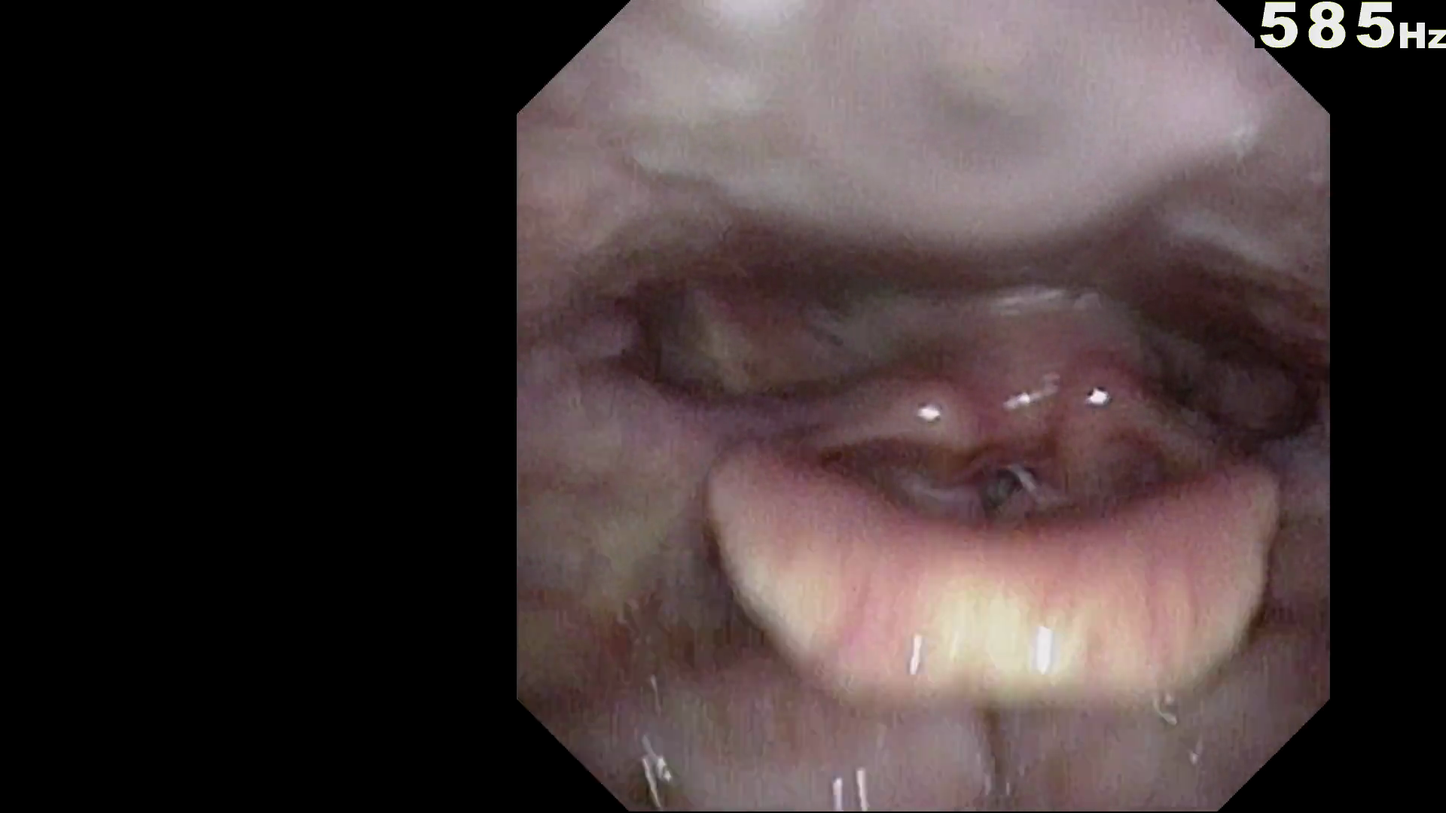epiglottis: (682, 413, 1290, 676)
trachea: (945, 419, 1066, 538)
